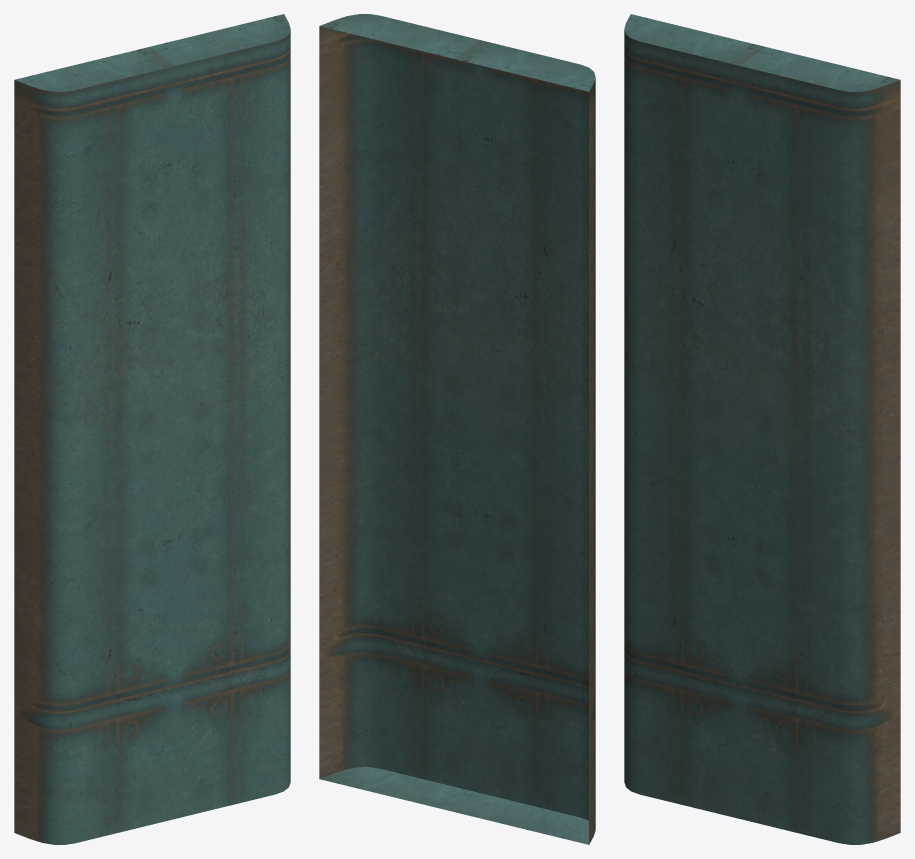
Rendered from SM_Wall01Pillar.FBX.
The picture shows the model from 3 angles, left to right: view 1: azimuth 30°, elevation 25°; view 2: azimuth 150°, elevation 25°; view 3: azimuth 330°, elevation 25°; orthographic projection.
Visible parts, largest first — view 1: SM_Wall01Pillar; view 2: SM_Wall01Pillar; view 3: SM_Wall01Pillar.
Boxes of the visible parts, <box> form: SM_Wall01Pillar: <box>14,14,290,844</box>; SM_Wall01Pillar: <box>319,14,595,844</box>; SM_Wall01Pillar: <box>624,14,900,844</box>.
Size of the model in its own units: 150 by 25 by 400.
